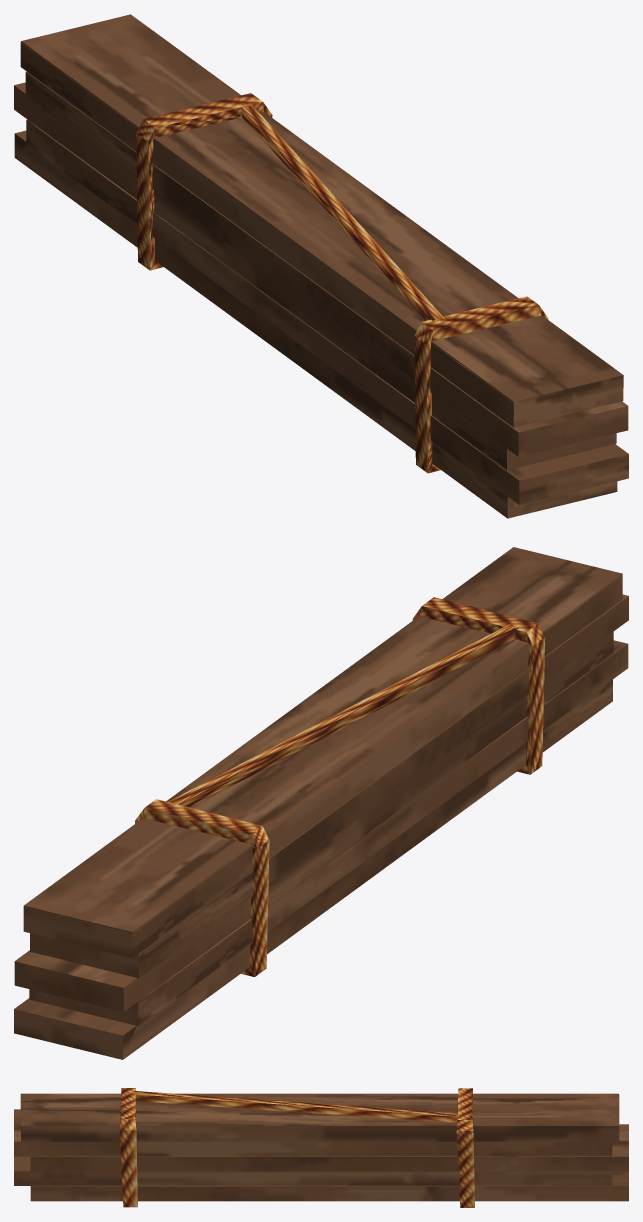
Rendered from CSR_BoundPlanks5.fbx.
3 views of the same model, one above another, from view 1: azimuth 30°, elevation 25°; view 2: azimuth 150°, elevation 25°; view 3: azimuth 270°, elevation 25° (orthographic). The views are drawn at different scales.
Visible parts, largest first — view 1: Bound Planks x5; view 2: Bound Planks x5; view 3: Bound Planks x5.
Part boxes in pixels (bbox=[...]): Bound Planks x5: bbox=[14, 14, 628, 518]; Bound Planks x5: bbox=[14, 547, 628, 1059]; Bound Planks x5: bbox=[14, 1088, 628, 1207].
Size of the model in its own units: 0.0855 by 0.0948 by 0.6105.
Materials: 1 (1 with a texture image).
